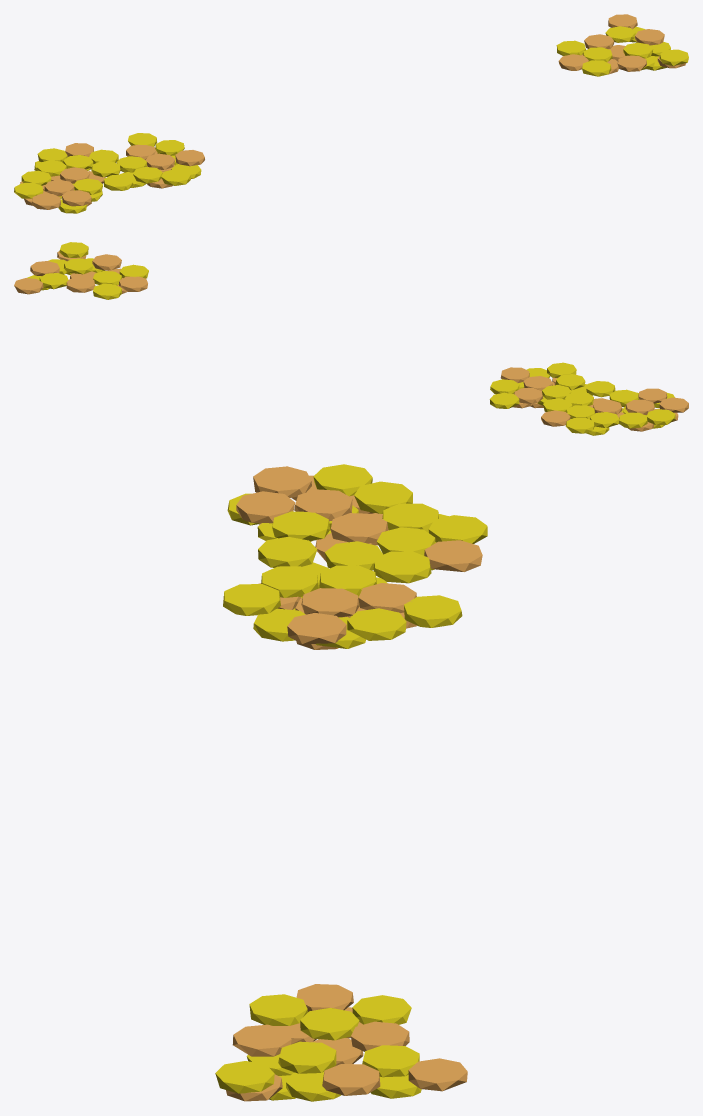
Rendered from coinpiles.fbx.
3 views of the same model, one above another, from view 1: azimuth 30°, elevation 25°; view 2: azimuth 150°, elevation 25°; view 3: azimuth 270°, elevation 25° (orthographic). The views are drawn at different scales.
Visible parts, largest first — view 1: Cylinder.013, Cylinder.045, Cylinder.051, Cylinder.018, Cylinder.057, Cylinder.012, Cylinder.037, Cylinder.054, Cylinder.058, Cylinder.046, Cylinder.008, Cylinder.055 (+21 smaller); view 2: Cylinder.017, Cylinder.057, Cylinder.054, Cylinder.027, Cylinder.060, Cylinder.069, Cylinder.001, Cylinder.041, Cylinder.068, Cylinder.016, Cylinder.059, Cylinder.009 (+21 smaller); view 3: Cylinder.041, Cylinder.027, Cylinder.058, Cylinder.002, Cylinder.012, Cylinder.060, Cylinder.054, Cylinder.037, Cylinder.040, Cylinder.056, Cylinder.051, Cylinder.001 (+23 smaller).
Boxes of the visible parts, left/top/right/bottom form: Cylinder.013: left=31, top=193, right=60, bottom=209; Cylinder.045: left=104, top=174, right=133, bottom=190; Cylinder.051: left=582, top=60, right=611, bottom=76; Cylinder.018: left=62, top=190, right=91, bottom=206; Cylinder.057: left=617, top=55, right=646, bottom=71; Cylinder.012: left=161, top=169, right=190, bottom=185; Cylinder.037: left=175, top=150, right=204, bottom=166; Cylinder.054: left=659, top=49, right=688, bottom=65; Cylinder.058: left=635, top=29, right=664, bottom=45; Cylinder.046: left=133, top=167, right=162, bottom=183; Cylinder.008: left=91, top=161, right=120, bottom=177; Cylinder.055: left=605, top=26, right=635, bottom=42; Cylinder.017: left=619, top=412, right=647, bottom=428; Cylinder.057: left=92, top=254, right=121, bottom=270; Cylinder.054: left=59, top=242, right=88, bottom=257; Cylinder.027: left=489, top=392, right=519, bottom=408; Cylinder.060: left=14, top=278, right=43, bottom=294; Cylinder.069: left=66, top=277, right=95, bottom=292; Cylinder.001: left=541, top=410, right=570, bottom=426; Cylinder.041: left=64, top=258, right=92, bottom=274; Cylinder.068: left=93, top=283, right=121, bottom=299; Cylinder.016: left=646, top=409, right=675, bottom=425; Cylinder.059: left=119, top=276, right=147, bottom=291; Cylinder.009: left=565, top=417, right=594, bottom=433; Cylinder.041: left=278, top=1041, right=336, bottom=1073; Cylinder.027: left=404, top=595, right=462, bottom=627; Cylinder.058: left=322, top=1064, right=380, bottom=1095; Cylinder.002: left=373, top=551, right=431, bottom=583; Cylinder.012: left=223, top=584, right=280, bottom=615; Cylinder.060: left=408, top=1058, right=467, bottom=1091; Cylinder.054: left=215, top=1061, right=274, bottom=1093; Cylinder.037: left=287, top=613, right=346, bottom=644; Cylinder.040: left=347, top=608, right=406, bottom=640; Cylinder.056: left=300, top=1008, right=359, bottom=1040; Cylinder.051: left=249, top=994, right=307, bottom=1025; Cylinder.001: left=424, top=540, right=482, bottom=571.
Size of the model in its own units: 671 by 12.45 by 124.
